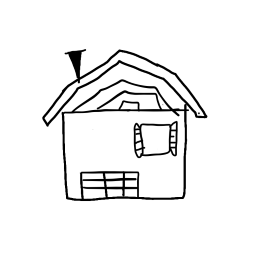chimney: (63, 46, 95, 85)
door: (76, 166, 145, 206)
open_window: (128, 117, 182, 161)
roof: (35, 40, 211, 129)
wall: (57, 106, 191, 209)
